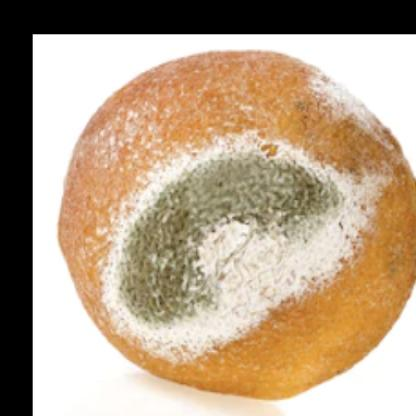rotten: (61, 50, 416, 399)
